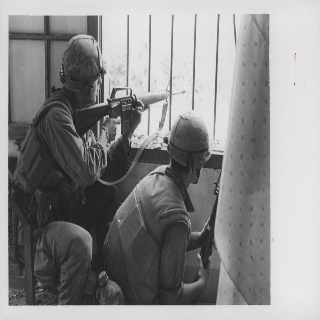rifle: (74, 88, 186, 134)
